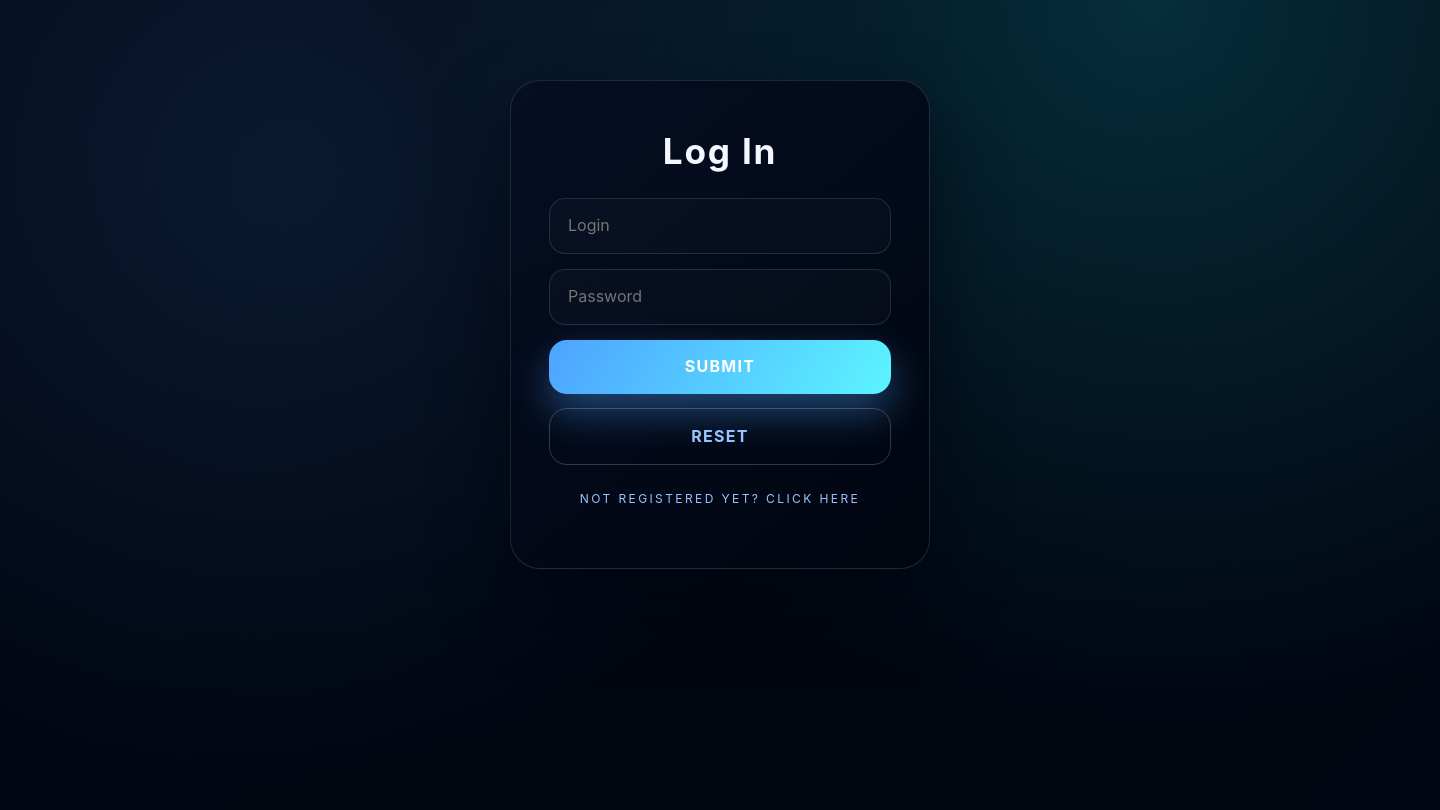
Test case: Login Component › disables submit button while loading
Type "testuser" into the field with placeholder "Login" at (720, 226), box [549, 198, 891, 254]
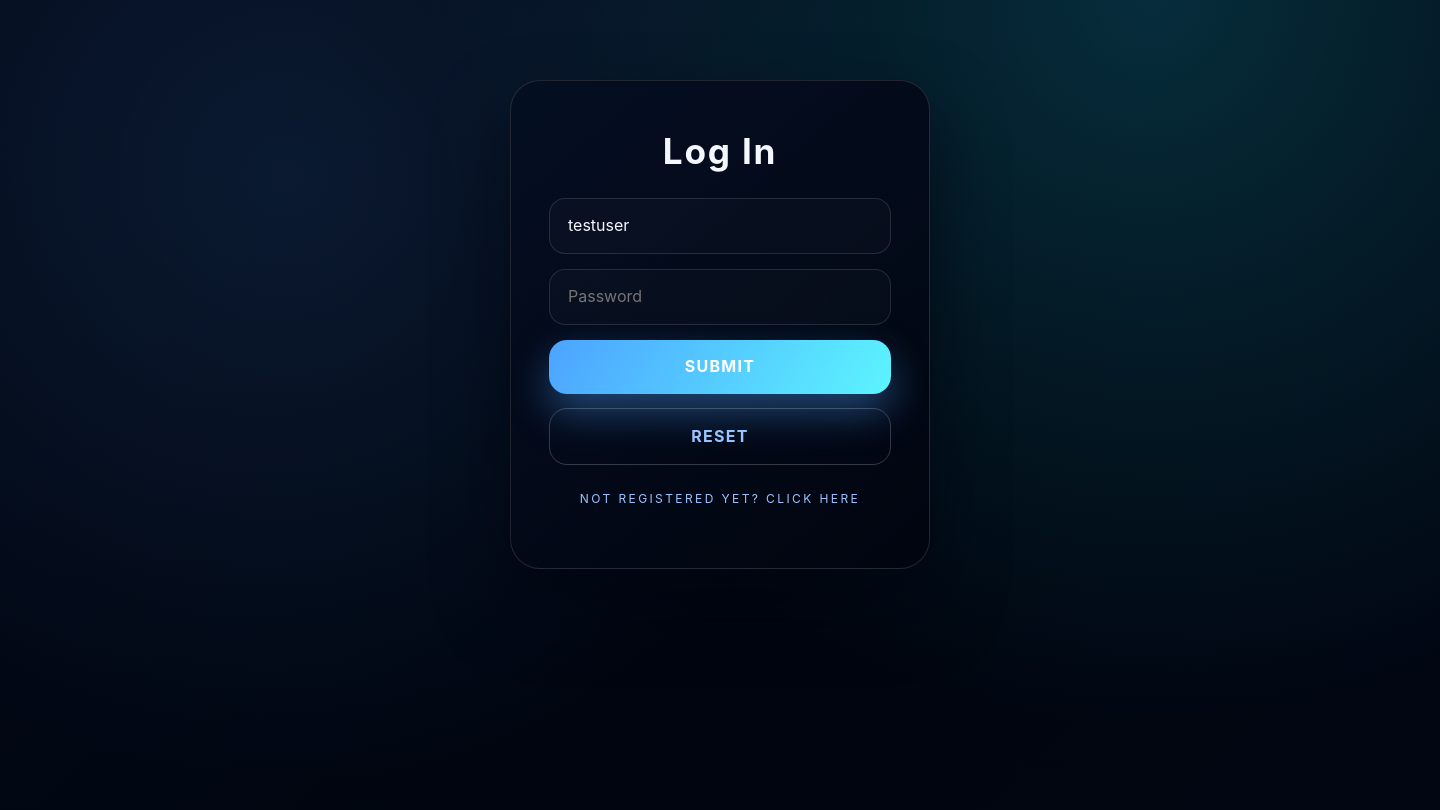
Type "testpass" into the password field with placeholder "Password" at (720, 297), box [549, 269, 891, 325]
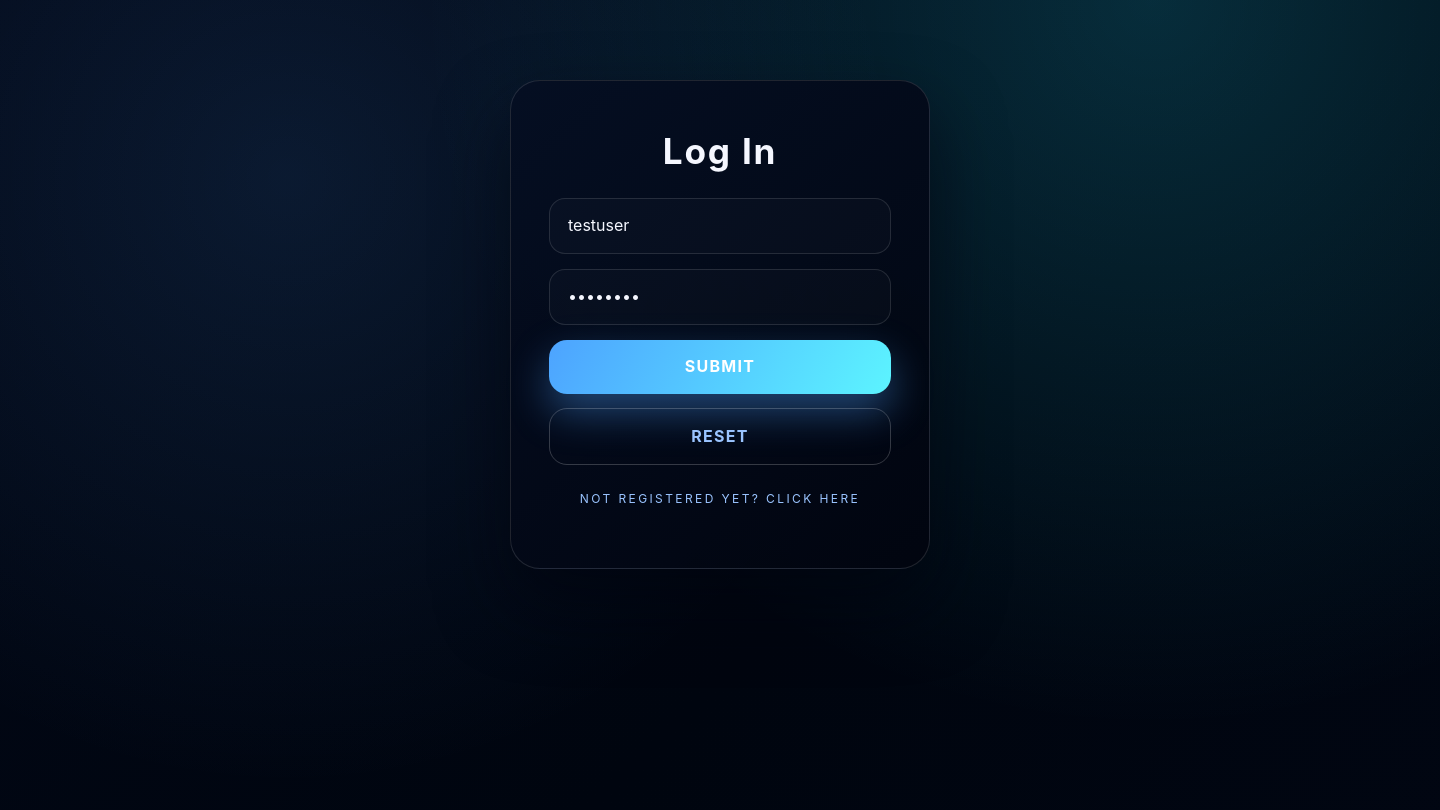
Click the button "Submit" at (720, 367), box [549, 340, 891, 394]
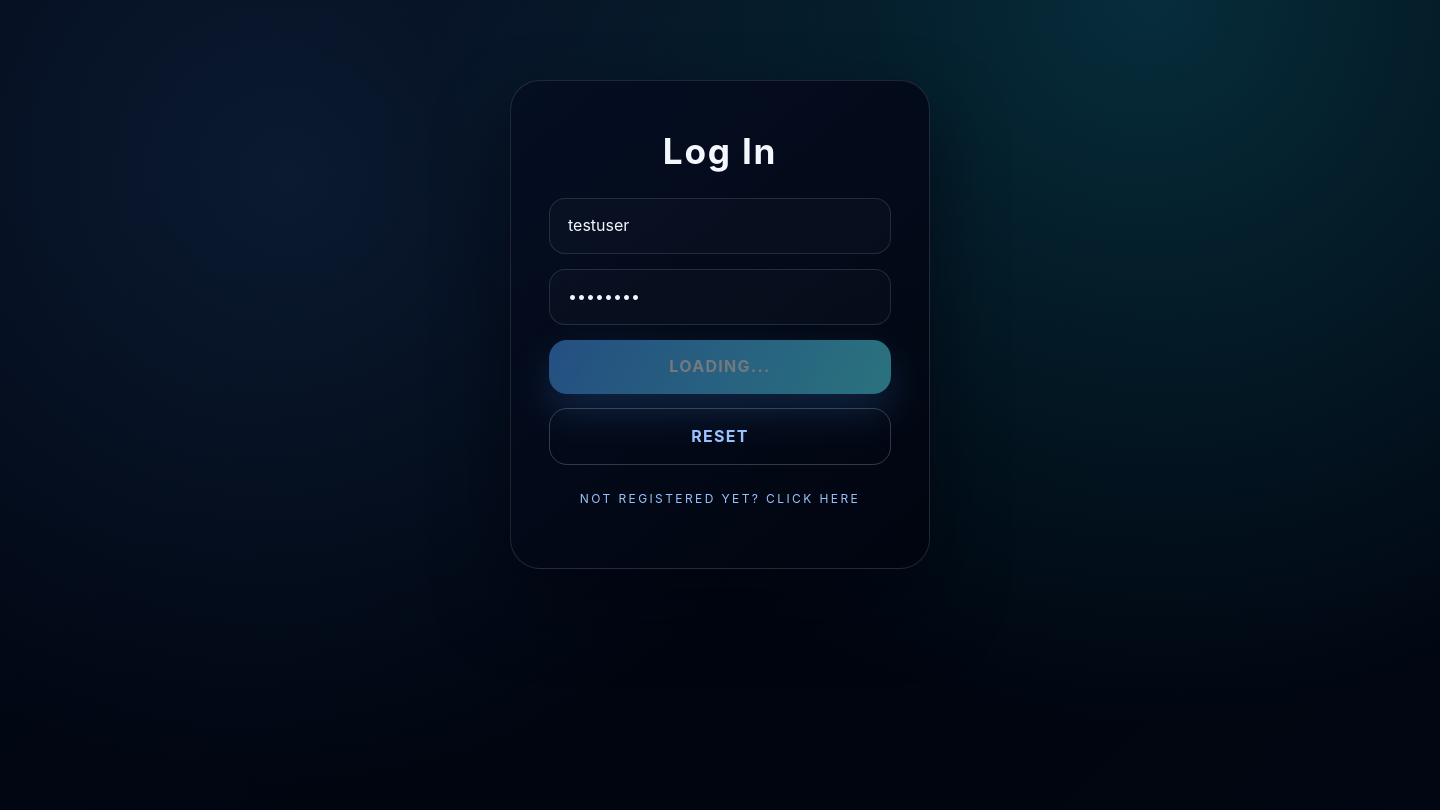
Now the button "Submit" is disabled, box [549, 340, 891, 394]
